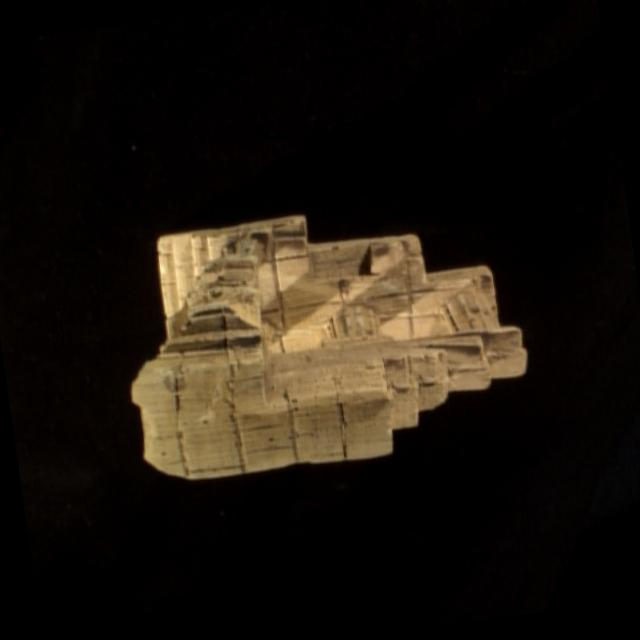Instance-Segmentation: (131, 216, 525, 477)
